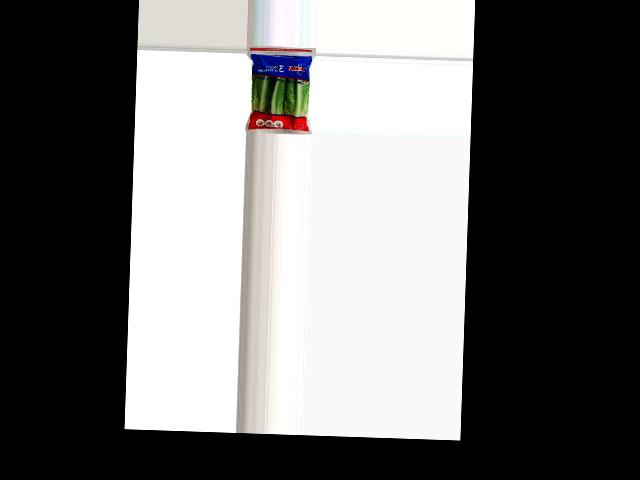lettuce: (246, 52, 312, 134)
